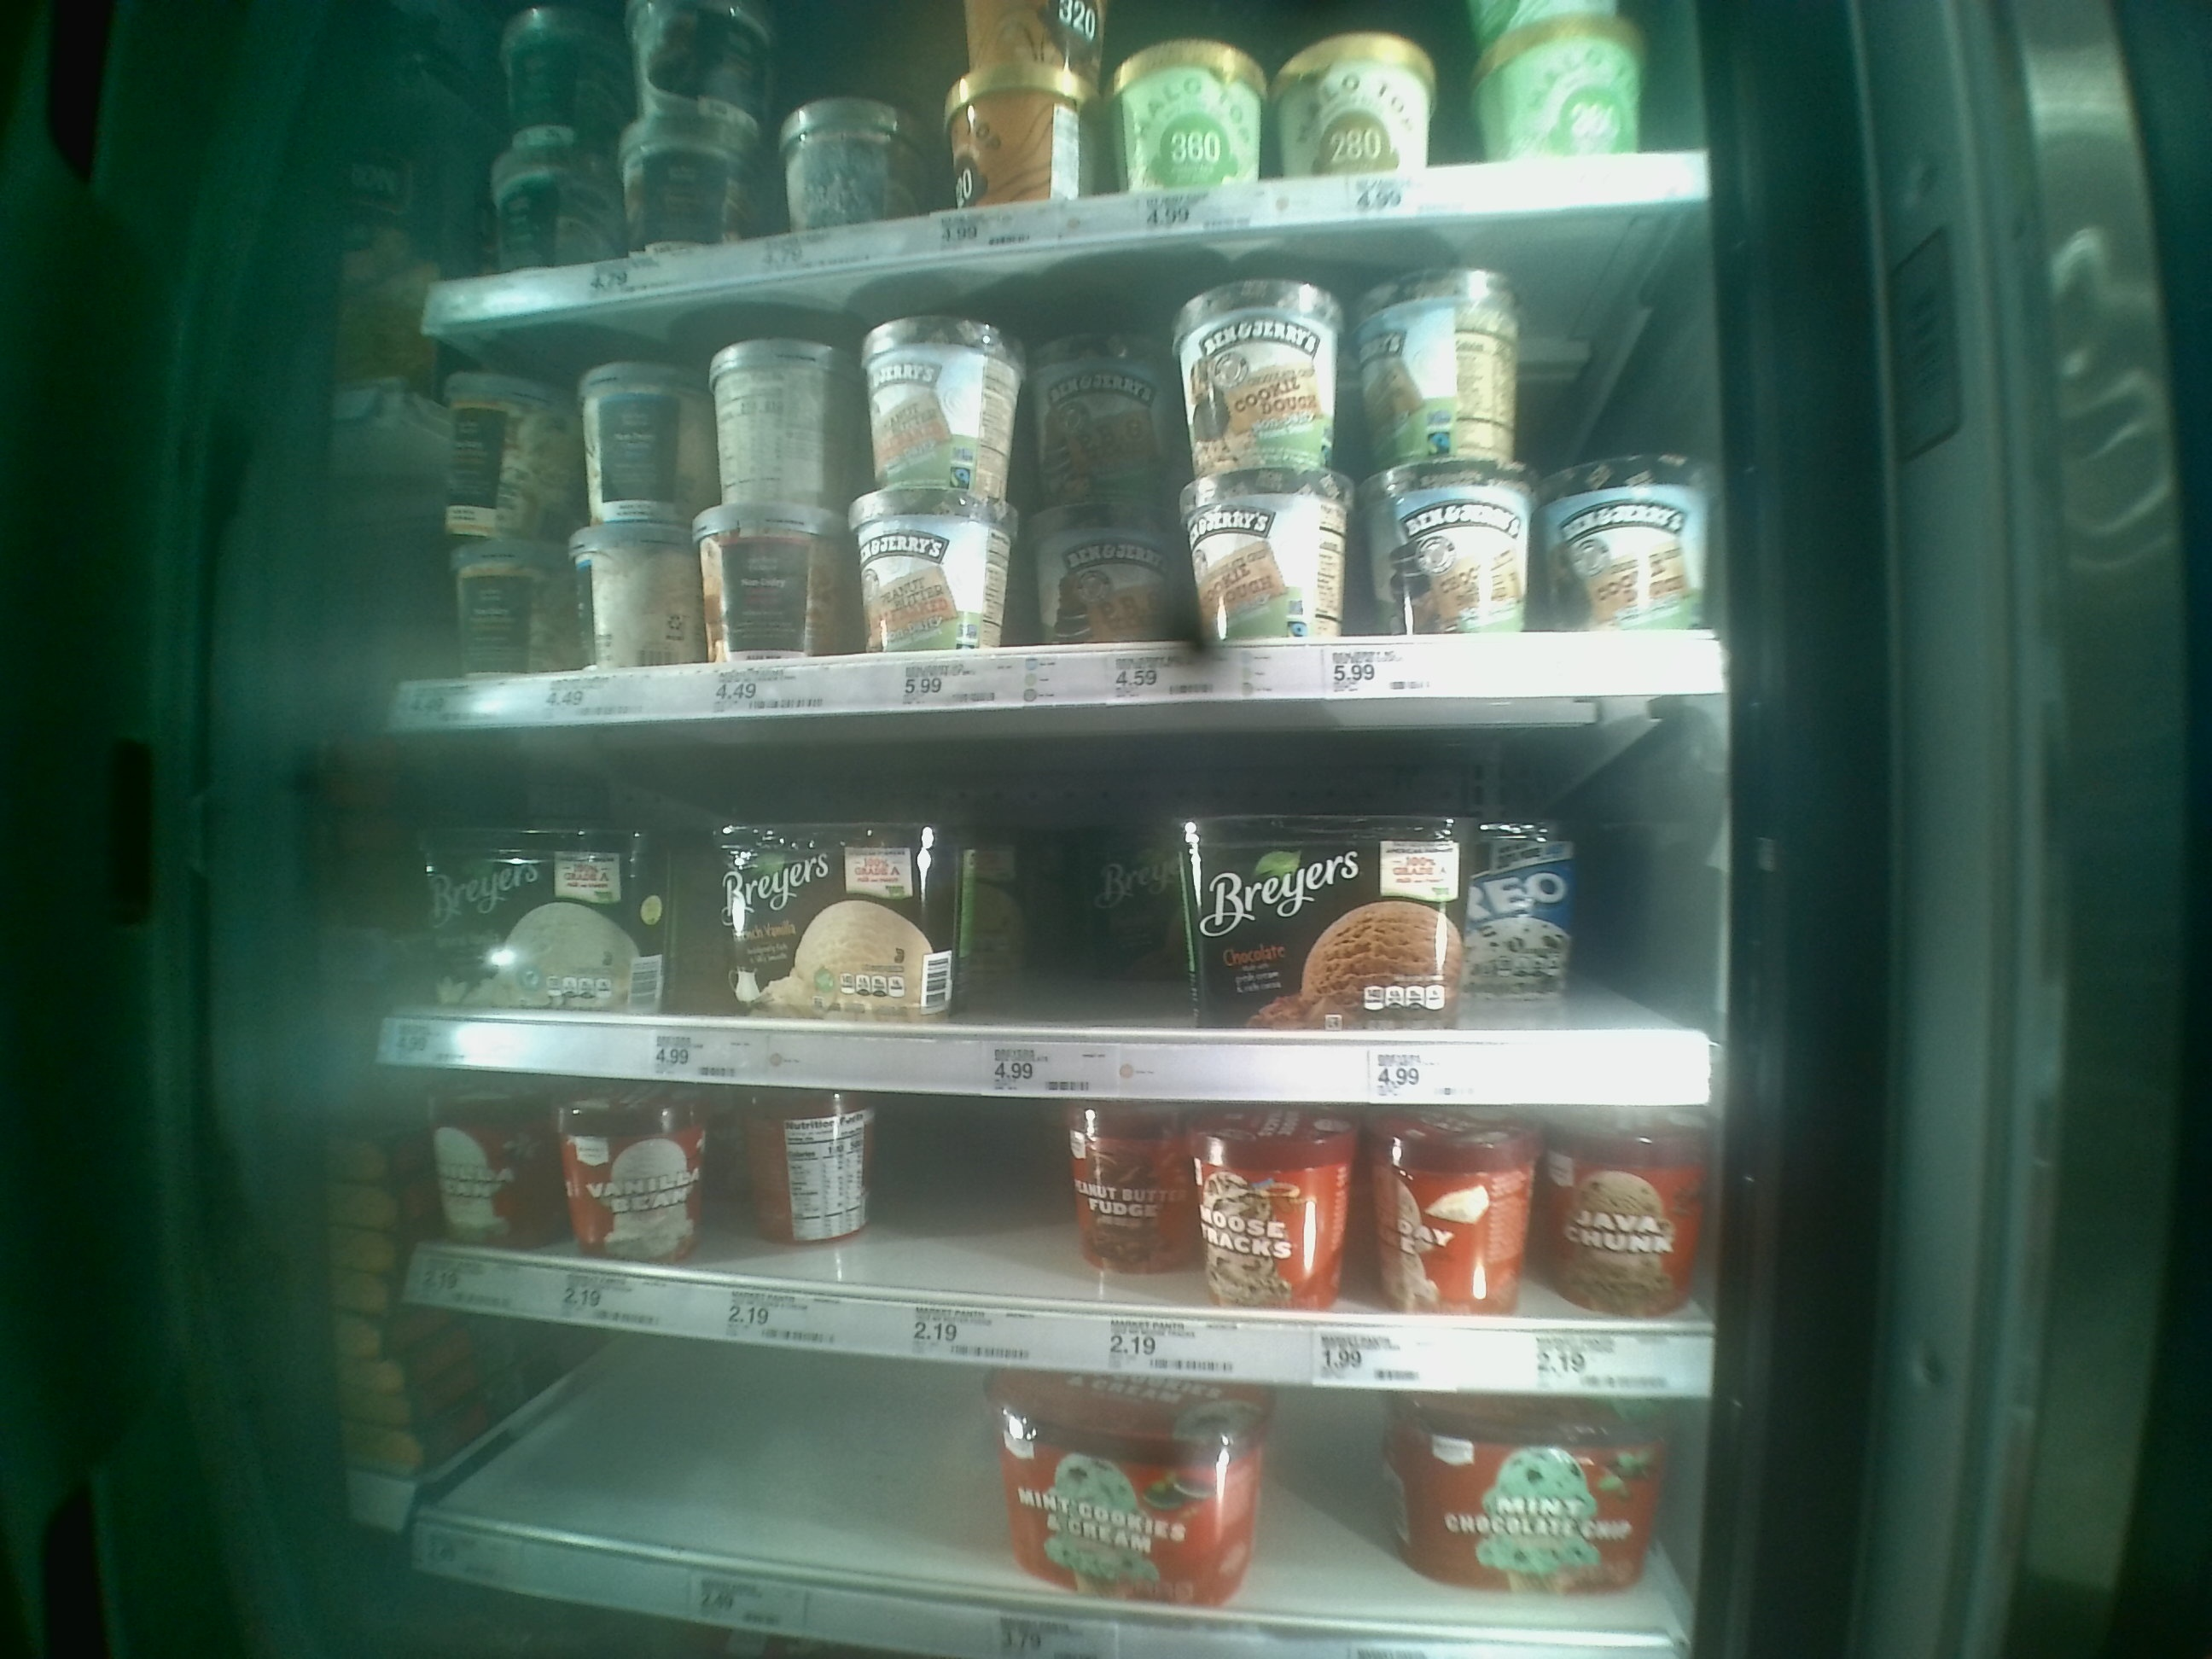ice-cream-shelf: (411, 247, 1726, 692), (380, 706, 1716, 1103)
